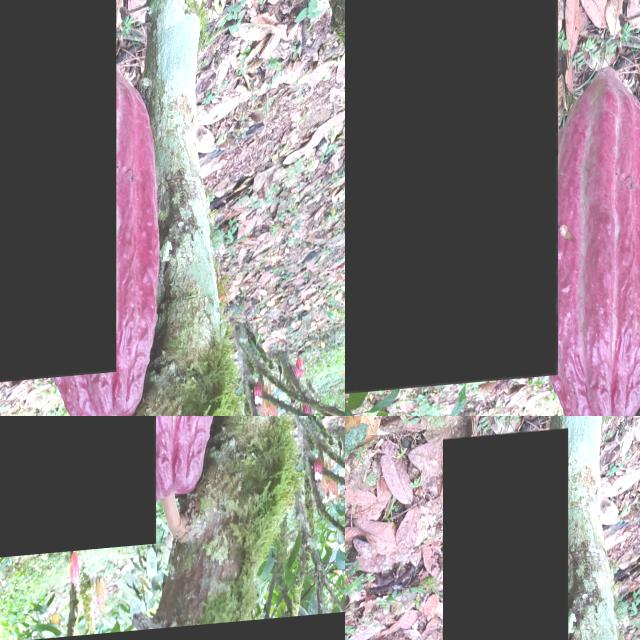Monilia: (0, 0, 116, 392)
Sana: (345, 0, 557, 396), (443, 436, 568, 640), (0, 416, 155, 570)
